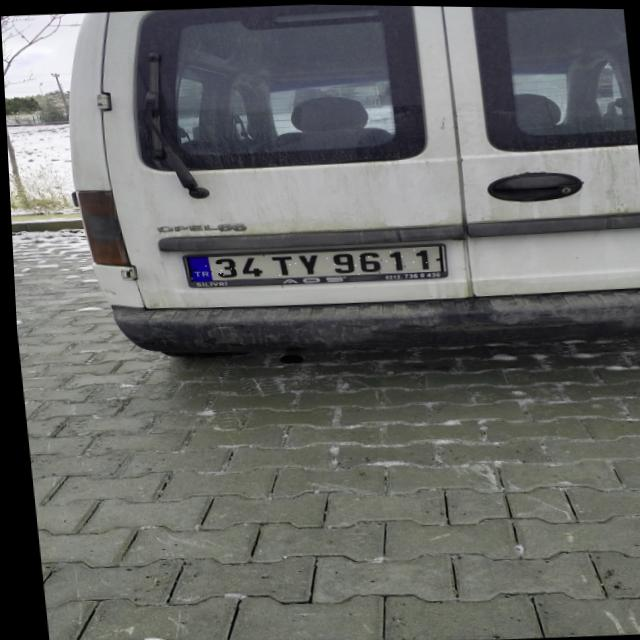license_plate: (183, 244, 442, 285)
